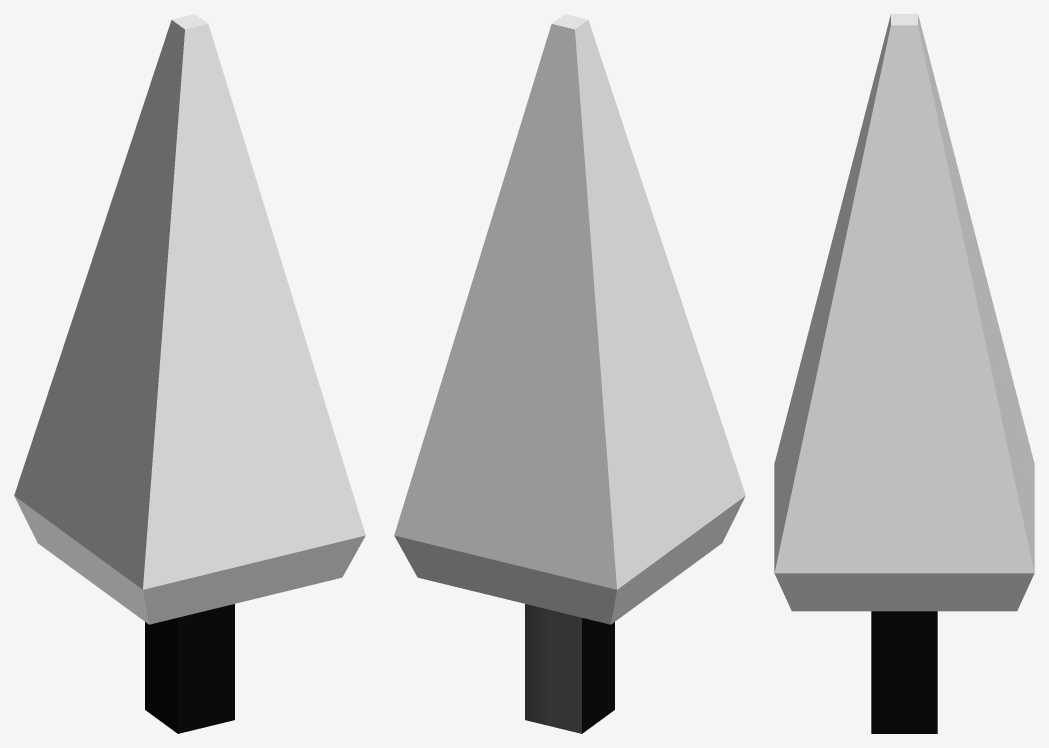
File: Tree04.fbx
The picture shows the model from 3 angles, left to right: view 1: azimuth 30°, elevation 25°; view 2: azimuth 150°, elevation 25°; view 3: azimuth 270°, elevation 25°; orthographic projection.
Visible parts, largest first — view 1: Tree04; view 2: Tree04; view 3: Tree04.
Part boxes in pixels (<box>): Tree04: <box>14,14,365,733</box>; Tree04: <box>394,14,745,733</box>; Tree04: <box>774,14,1034,733</box>.
Size of the model in its own units: 58.6 by 174 by 58.6.
